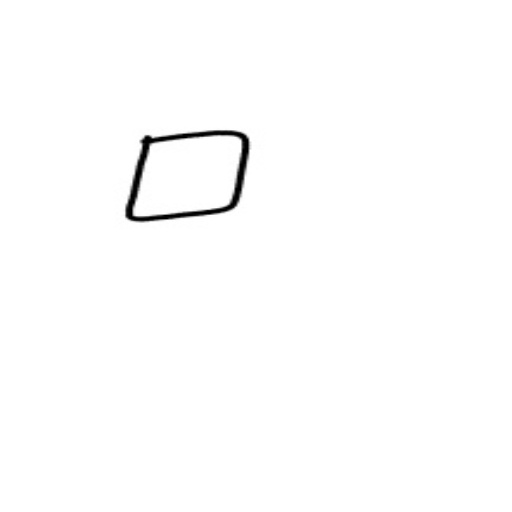square: (120, 124, 253, 227)
